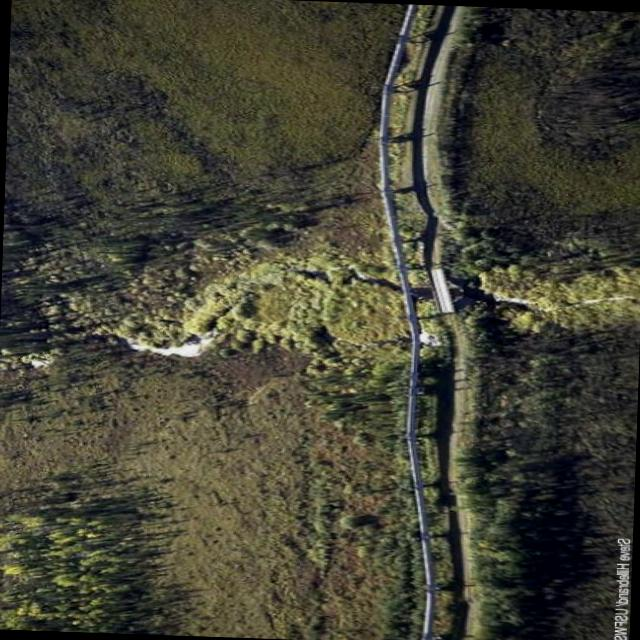gas: (394, 333, 452, 640), (366, 144, 423, 338), (376, 2, 418, 144)
